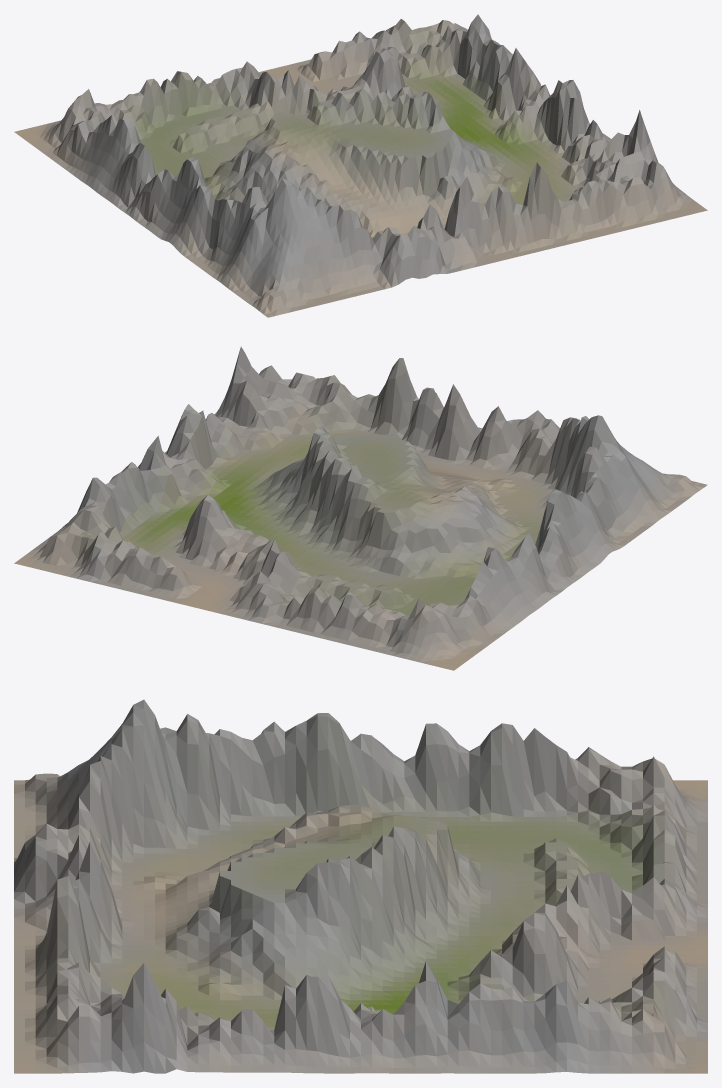
Rendered from Terrain2.gltf.
3 renders of one model, top to bottom at view 1: azimuth 30°, elevation 25°; view 2: azimuth 150°, elevation 25°; view 3: azimuth 270°, elevation 25°, orthographic. The views are drawn at different scales.
Visible parts, largest first — view 1: Terrain_0_0_20190130_171515_x0y0; view 2: Terrain_0_0_20190130_171515_x0y0; view 3: Terrain_0_0_20190130_171515_x0y0.
Boxes of the visible parts, bbox=[...] form: Terrain_0_0_20190130_171515_x0y0: bbox=[14, 14, 707, 317]; Terrain_0_0_20190130_171515_x0y0: bbox=[14, 346, 707, 670]; Terrain_0_0_20190130_171515_x0y0: bbox=[14, 699, 707, 1073].
Size of what is drawn, in the model's own units: 128 by 24.84 by 128.
